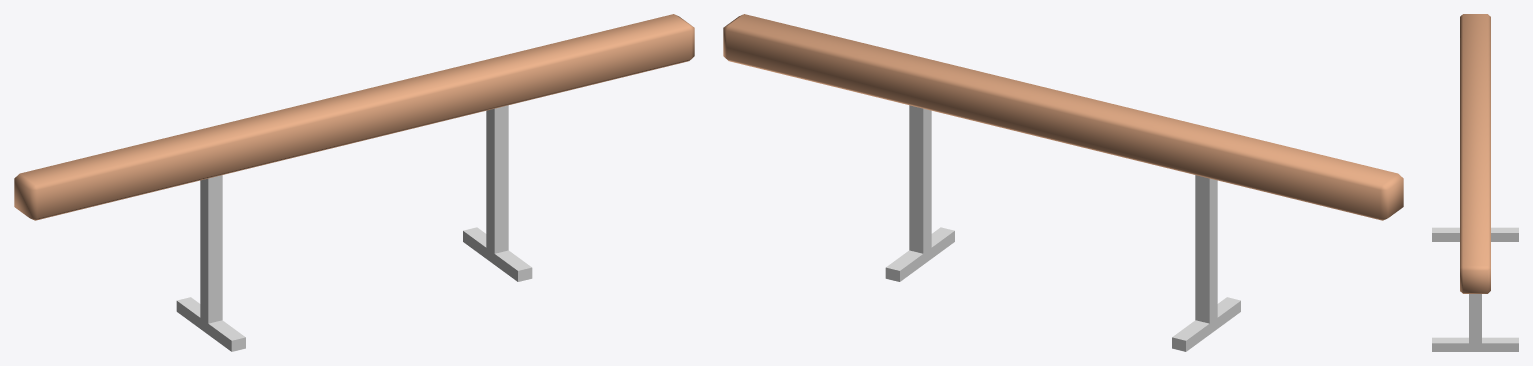
File: poutre.fbx
3 views of the same model, side by side, from view 1: azimuth 30°, elevation 25°; view 2: azimuth 150°, elevation 25°; view 3: azimuth 270°, elevation 25° (orthographic). The views are drawn at different scales.
Visible parts, largest first — view 1: Poutre; view 2: Poutre; view 3: Poutre.
Boxes of the visible parts, x1,y1,x2,y2 form: Poutre: (14, 14, 694, 351); Poutre: (723, 14, 1403, 351); Poutre: (1432, 14, 1518, 351).
Size of the model in its own units: 697 by 196 by 99.85.
